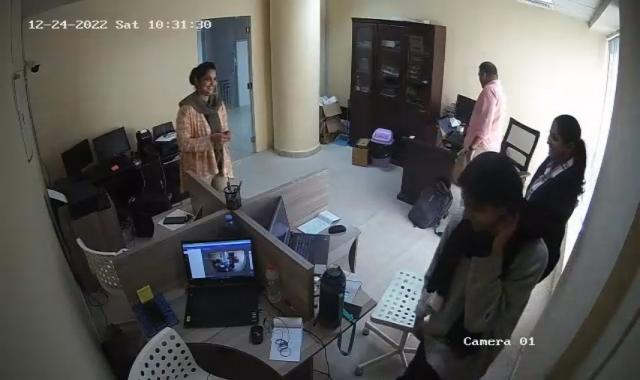no_hairnet: (458, 154, 523, 226), (546, 110, 584, 162), (186, 59, 221, 96), (472, 58, 501, 88)
